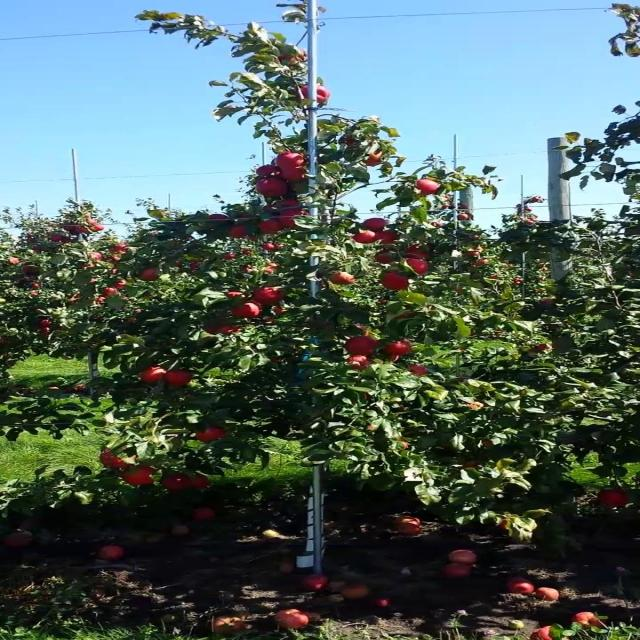apple: (344, 336, 378, 356), (256, 178, 289, 198), (122, 466, 153, 486), (273, 151, 307, 169), (251, 286, 282, 305), (598, 489, 629, 508), (100, 449, 129, 469), (278, 208, 307, 228), (278, 45, 307, 64), (382, 271, 409, 290), (196, 426, 227, 442), (164, 370, 193, 387), (162, 474, 191, 491), (140, 366, 167, 384), (231, 302, 260, 317), (384, 340, 411, 356), (204, 324, 242, 335), (258, 218, 284, 234), (281, 166, 307, 181), (286, 178, 310, 194), (329, 271, 356, 285), (416, 179, 440, 194), (347, 355, 371, 370), (407, 258, 429, 274), (362, 218, 389, 231), (407, 244, 429, 259), (353, 230, 376, 244), (229, 224, 249, 239), (376, 230, 398, 243), (138, 268, 160, 281), (316, 85, 331, 104), (189, 474, 209, 488), (373, 250, 393, 264), (364, 151, 382, 166), (256, 165, 280, 176), (407, 364, 429, 376), (459, 459, 481, 469), (276, 199, 300, 208), (209, 212, 229, 221), (464, 401, 484, 410), (298, 85, 309, 99), (342, 136, 358, 145), (227, 290, 244, 298), (498, 518, 509, 530), (238, 212, 253, 219), (480, 439, 493, 446), (273, 306, 284, 314), (365, 423, 375, 431)
